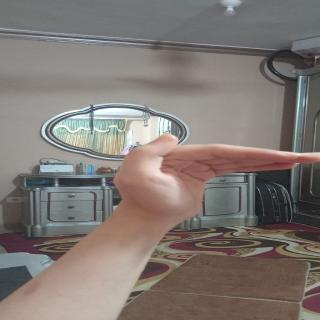KHAA: (98, 123, 320, 225)
